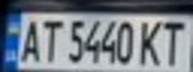0: (115, 17, 139, 65)
4: (81, 16, 103, 64), (100, 17, 121, 64)
5: (63, 16, 87, 63)
A: (15, 16, 45, 63)
K: (136, 18, 166, 66)
T: (157, 17, 190, 66), (36, 16, 63, 63)
